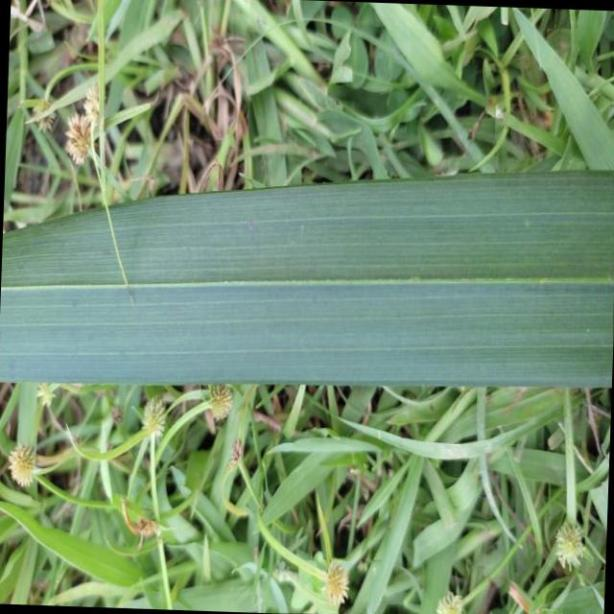Healthy: (6, 168, 614, 392)
